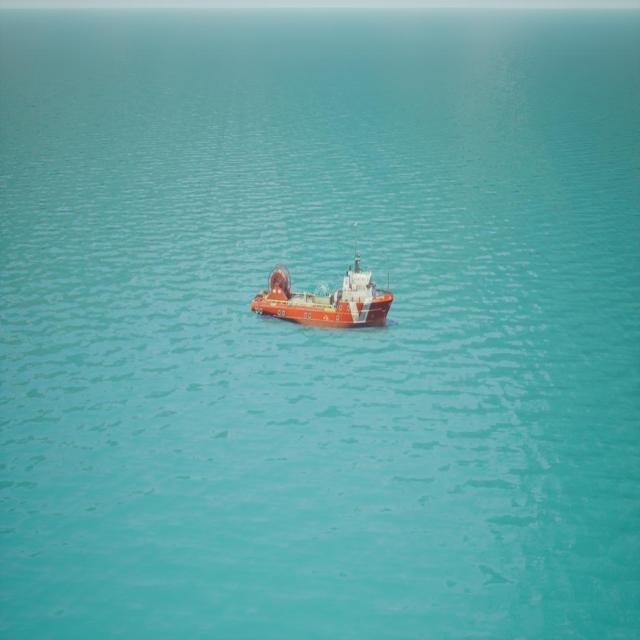tug boat: (248, 251, 402, 335)
